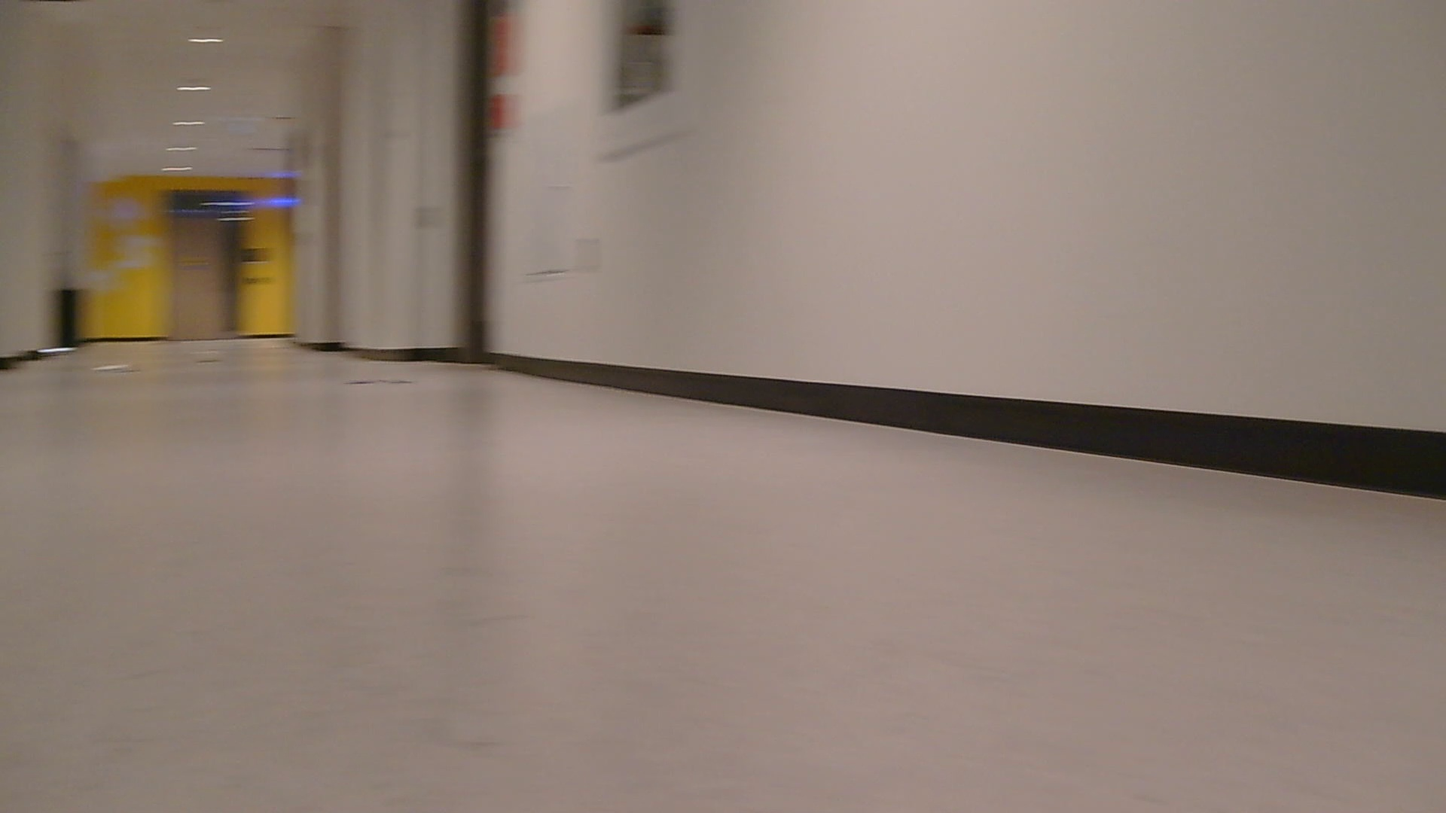carton: (330, 372, 430, 385), (96, 364, 148, 377), (36, 348, 90, 357), (200, 352, 231, 361)
